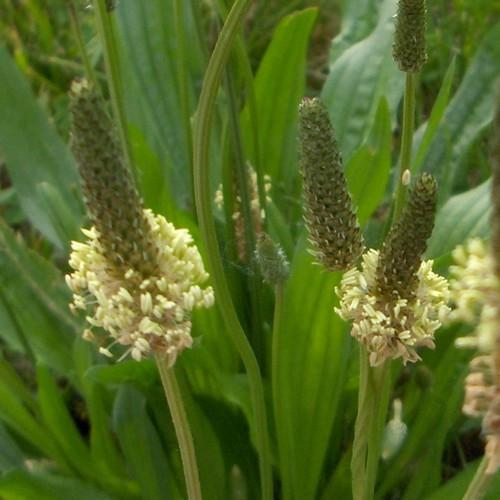buckhorn plantain: (279, 81, 461, 498), (36, 79, 219, 446), (246, 221, 294, 344)
